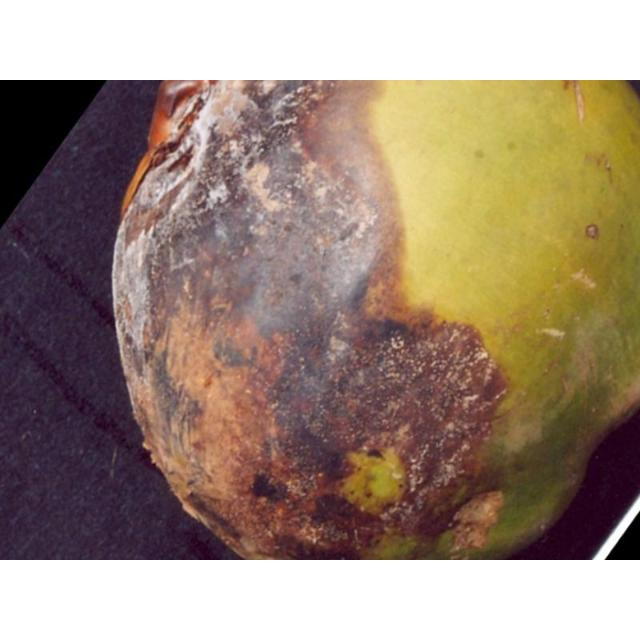damaged: (110, 80, 639, 559)
